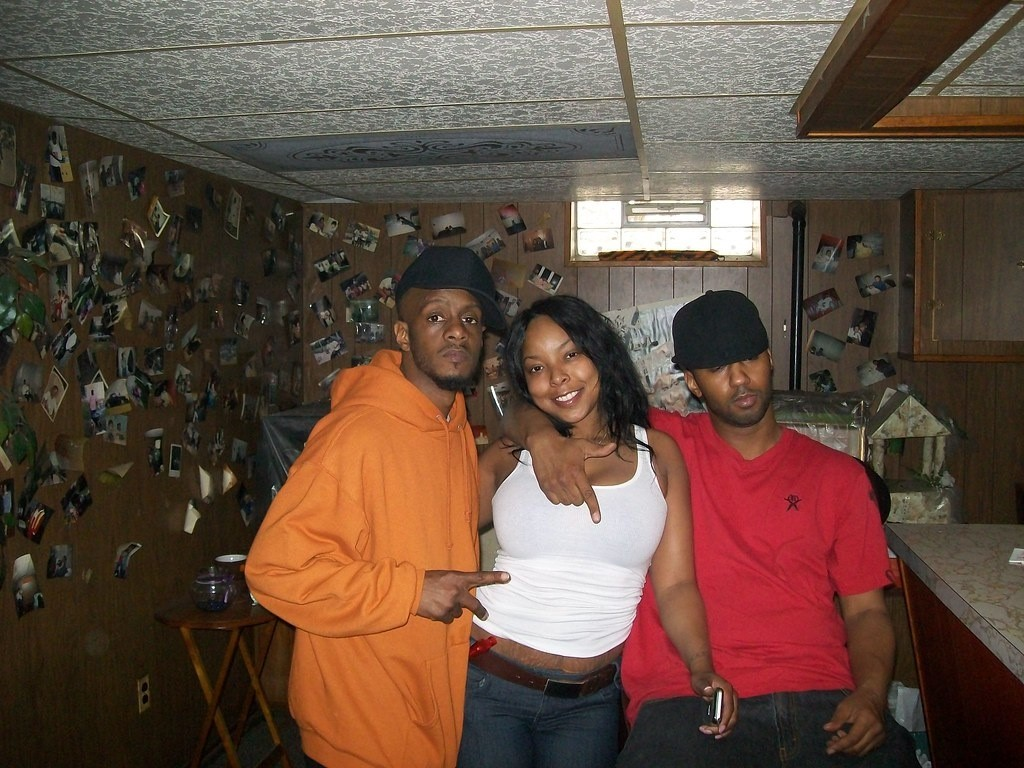face_no_mask: (392, 254, 493, 395), (517, 302, 619, 430), (676, 311, 776, 426)
